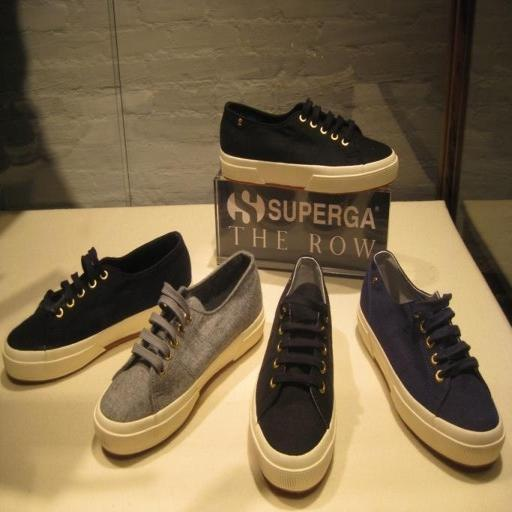shoe: (94, 252, 264, 455), (358, 251, 504, 467), (2, 232, 191, 381), (250, 256, 336, 492), (220, 99, 398, 193)
